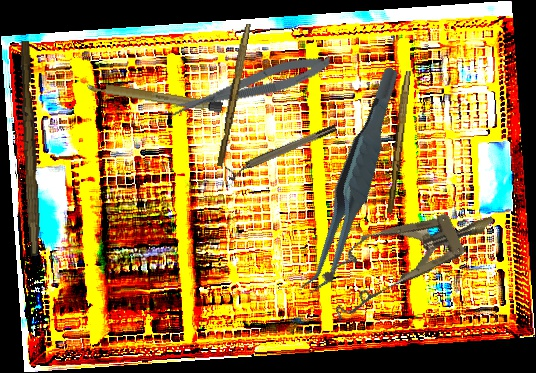Fixation Ring: (224, 122, 340, 182)
Micro Scissor: (164, 49, 335, 122)
Scalpel Handle: (15, 40, 46, 257), (215, 22, 252, 168), (85, 80, 224, 113), (386, 70, 411, 214)
Speculum: (312, 186, 507, 323)
Tissue Forceps: (262, 65, 445, 299)
